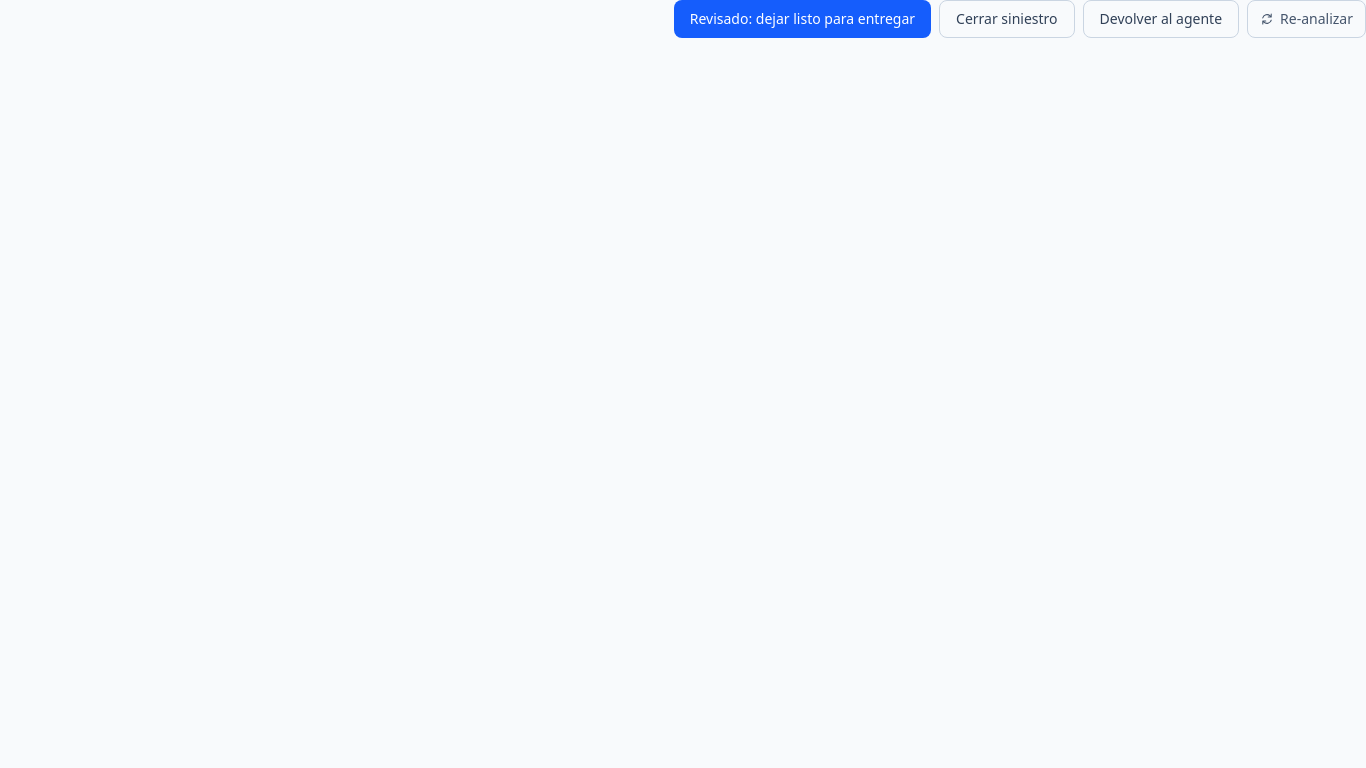
Devolver al agente (E24) › con el permiso, el botón abre el diálogo con el texto de devolver
Click the button with test id "action-devolver-al-agente" at (1161, 19), box [1082,0,1239,38]
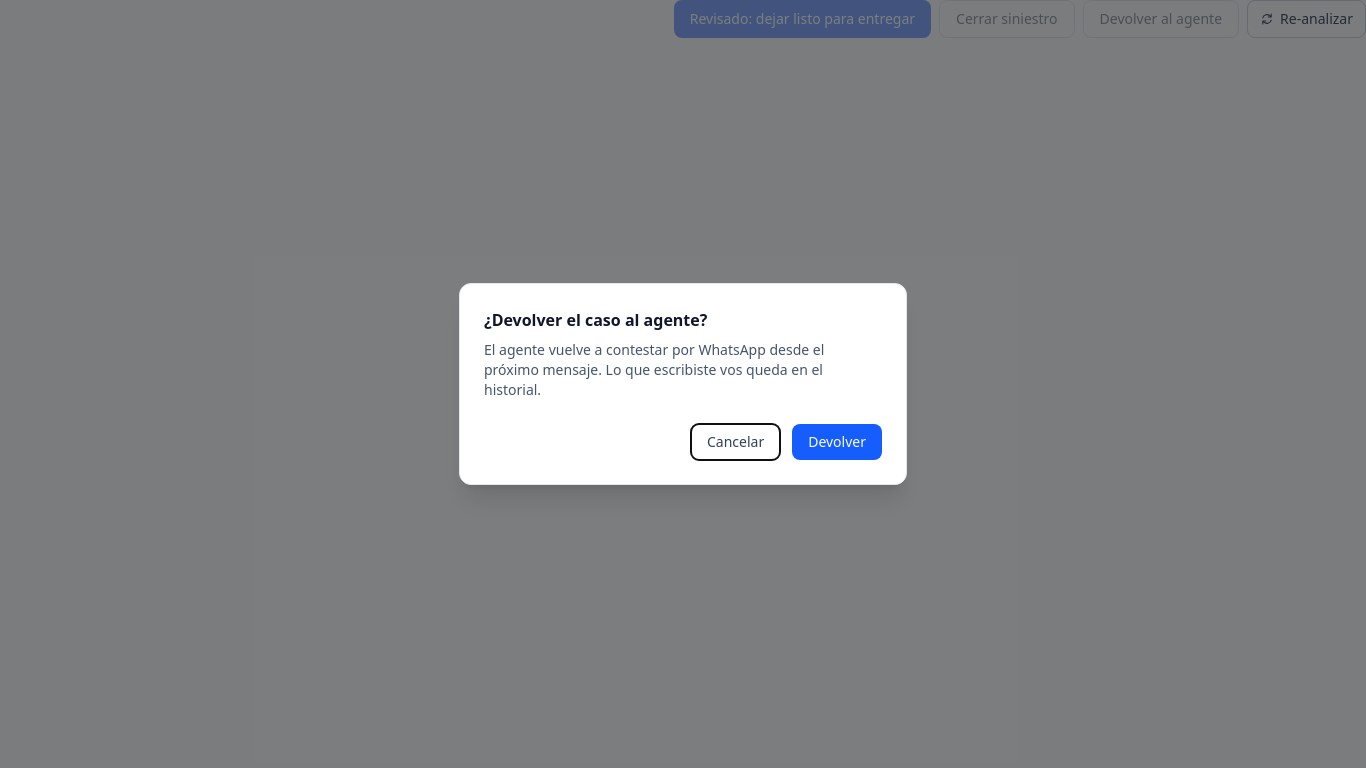
Check: the heading "¿Devolver el caso al agente?" is shown, box [484,309,707,331]
Check: the button with test id "devolver-al-agente-confirm-button" is shown, box [792,424,882,460]
